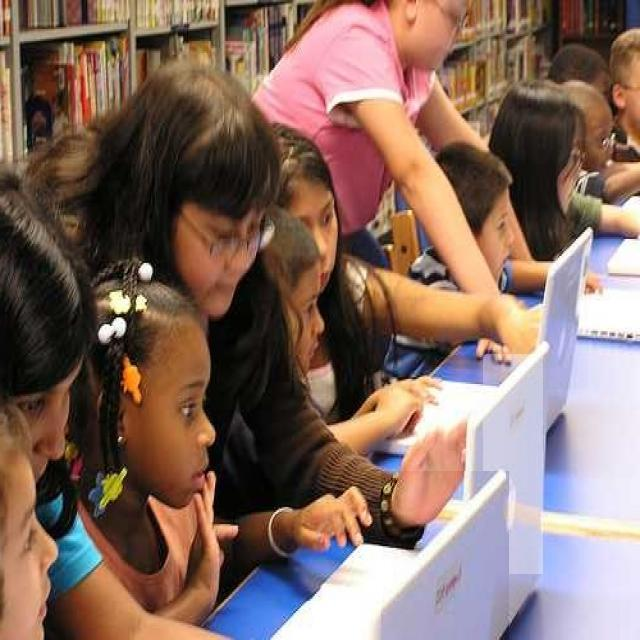-keyboard-: (382, 471, 509, 640), (484, 354, 544, 574), (546, 241, 588, 389)
